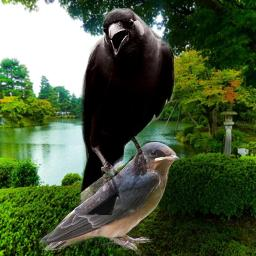Crow: (78, 8, 175, 215)
Swallow: (38, 141, 181, 256)
